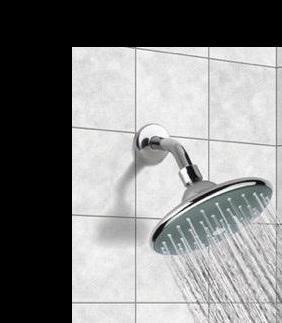Ducha: (72, 47, 282, 323)
